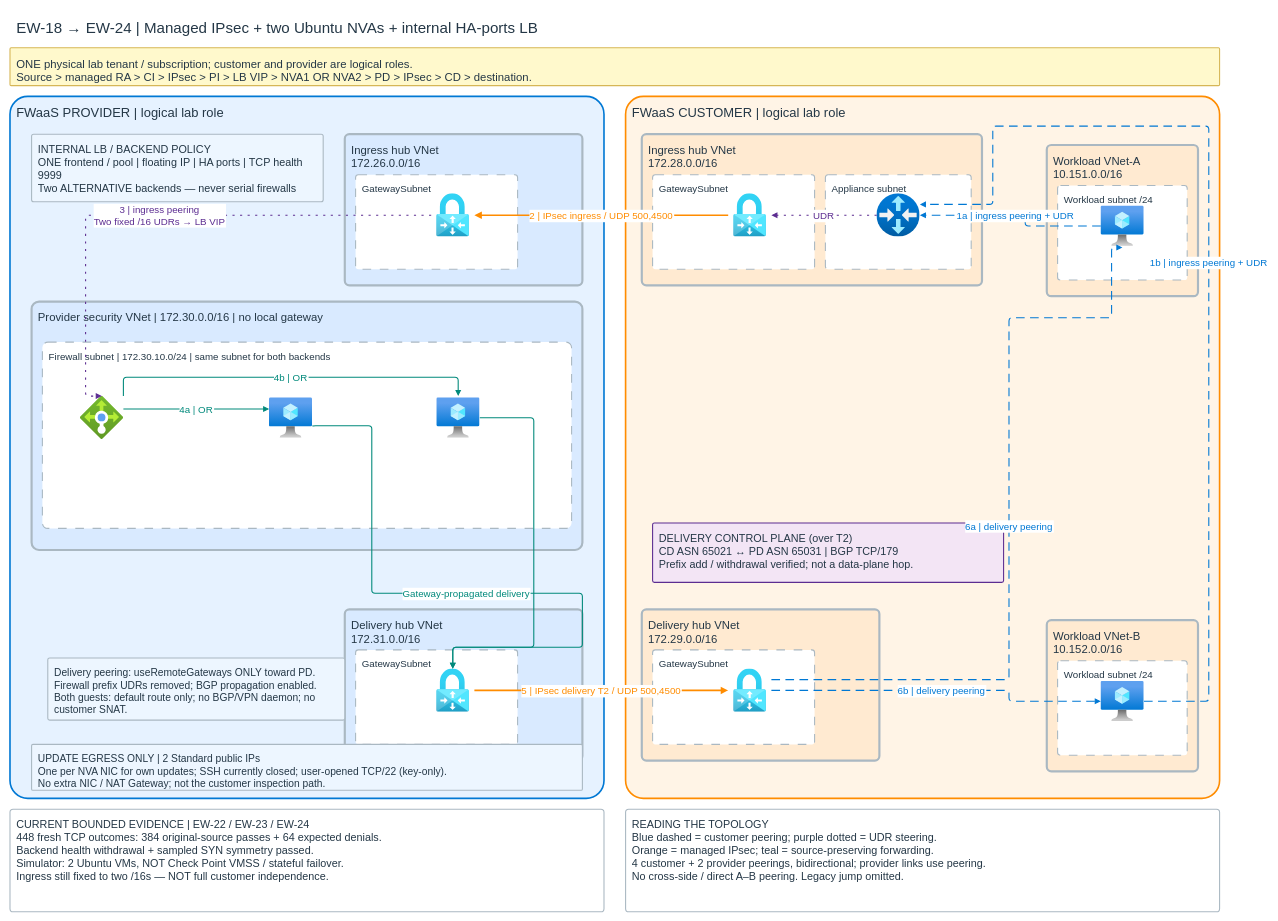
Some shapes in this 1278 by 921 pixel diagram are drawn without their labels. The shapes that lost their labels are listed below. From the top down, each one's centre as x and y in pixels, then its label:
the point at 452,215: Provider ingress GW IPsec decrypt
the point at 749,215: Customer ingress GW
the point at 898,215: Routing Appliance ONE managed resource
the point at 1122,225: VM-A 10.151.0.4
the point at 101,417: Internal Standard LB VIP 172.30.10.10
the point at 290,417: NVA1 | vm-cvpn-ew18-fw 172.30.10.4 / eth0 NO VPN termination
the point at 458,417: NVA2 | vm-cvpn-ew24-fw 172.30.10.5 / eth0 NO VPN termination
the point at 452,690: Provider delivery GW IPsec encrypt / ASN 65031
the point at 749,690: Customer delivery GW ASN 65021
the point at 1122,701: VM-B 10.152.0.4
